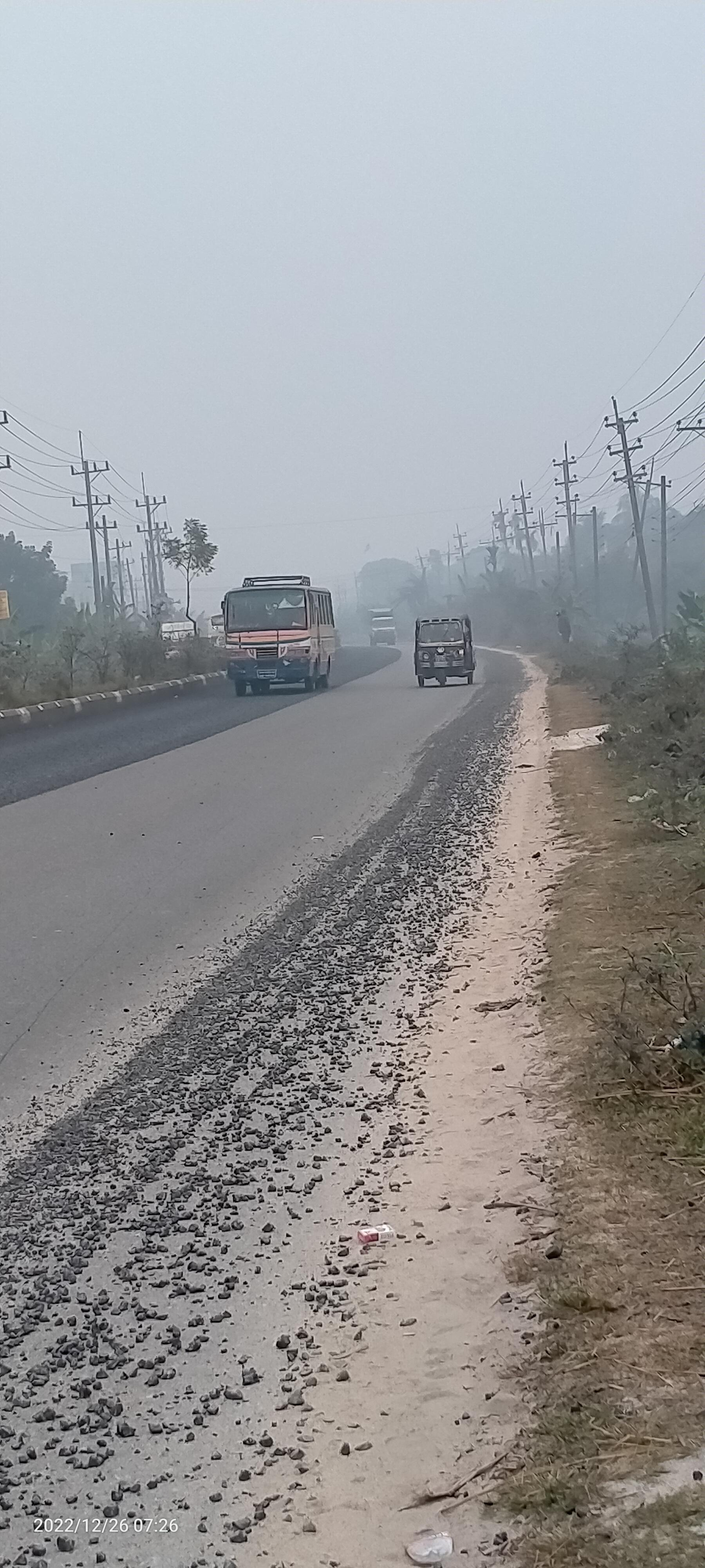Bus: (207, 560, 359, 707)
Truck: (357, 604, 418, 663)
